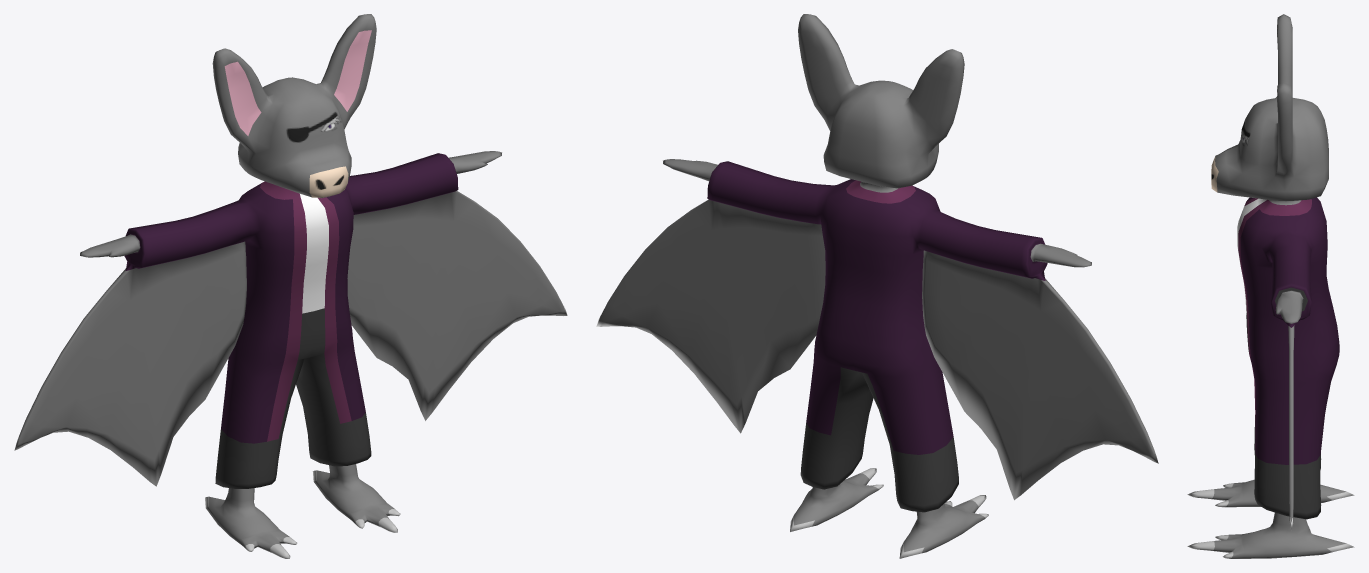
Rendered from morcegoCorrigidoComAsaBracoBone.fbx.
The picture shows the model from 3 angles, left to right: view 1: azimuth 30°, elevation 25°; view 2: azimuth 150°, elevation 25°; view 3: azimuth 270°, elevation 25°; orthographic projection. The views are drawn at different scales.
Parts seen in each view (by area): view 1: Cube; view 2: Cube; view 3: Cube.
Part boxes in pixels (x1=…): Cube: x1=14, y1=14, x2=567, y2=558; Cube: x1=596, y1=14, x2=1158, y2=558; Cube: x1=1187, y1=14, x2=1354, y2=558.
Size of the model in its own units: 380 by 317 by 101.
